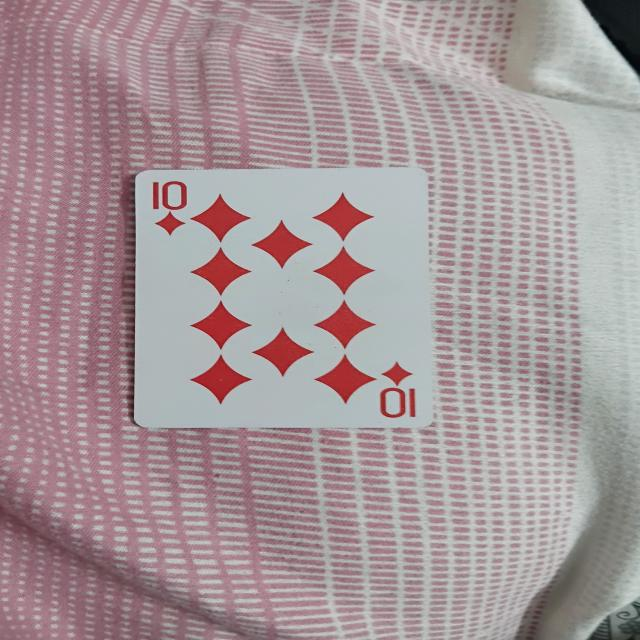10D: (140, 169, 440, 430)
